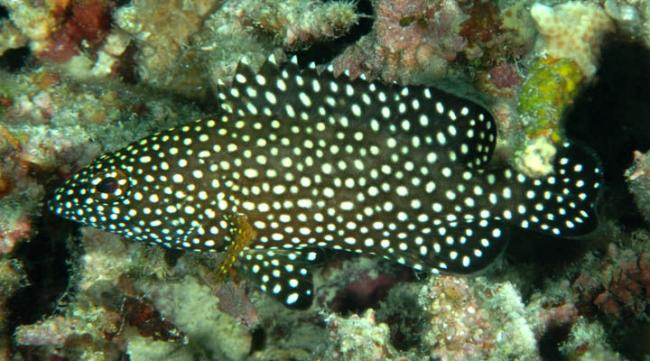fish: (47, 53, 602, 312)
